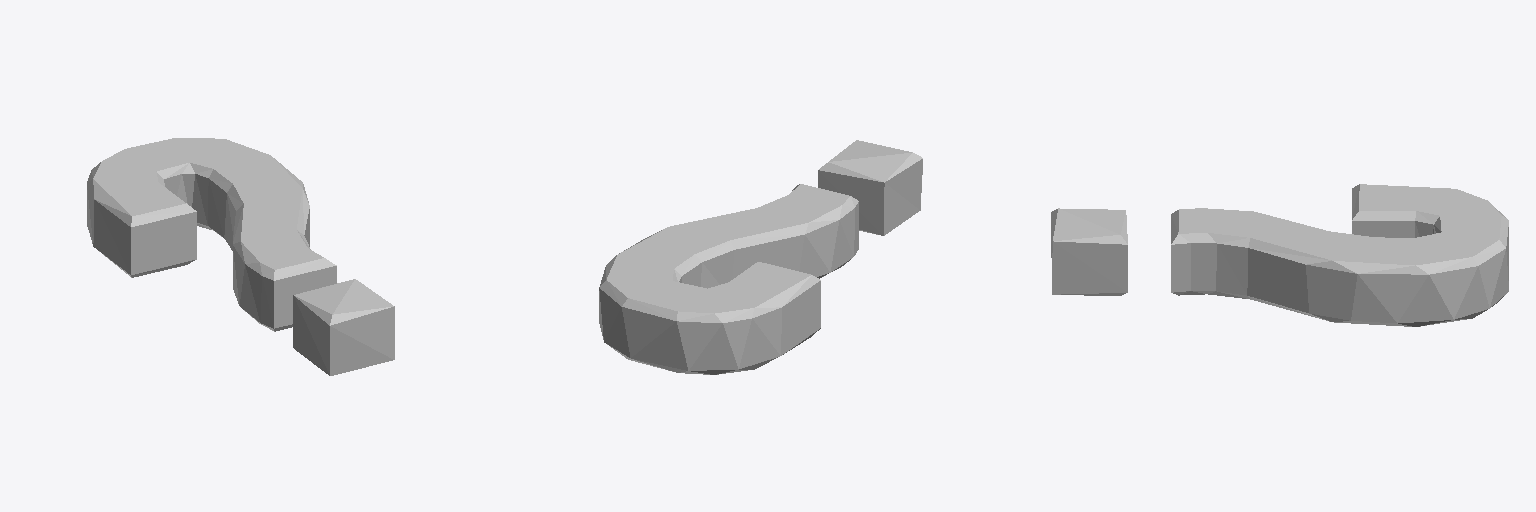
File: question.obj
3 views of the same model, side by side, from view 1: azimuth 30°, elevation 25°; view 2: azimuth 150°, elevation 25°; view 3: azimuth 270°, elevation 25° (orthographic).
Visible parts, largest first — view 1: Text_Mesh; view 2: Text_Mesh; view 3: Text_Mesh.
Part boxes in pixels (left/top/right/bottom): Text_Mesh: left=87, top=138, right=394, bottom=375; Text_Mesh: left=599, top=140, right=922, bottom=374; Text_Mesh: left=1051, top=184, right=1508, bottom=326.
Bounding box in the file's own units: 0.3268 × 0.1081 × 0.7281.